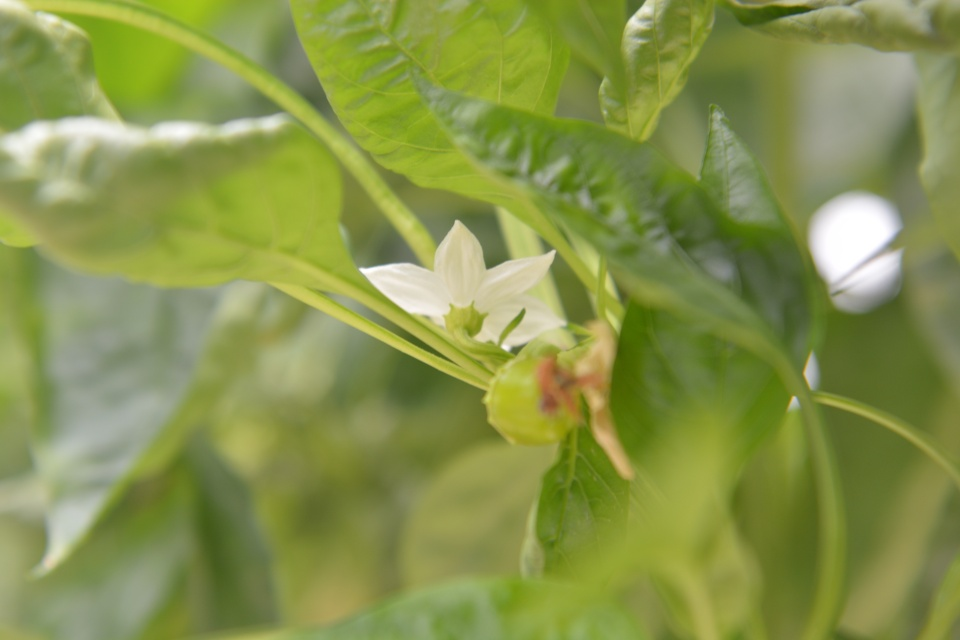flower: (356, 213, 570, 353)
